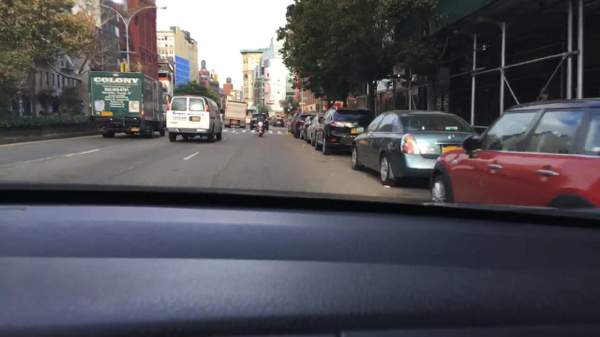car: (424, 100, 599, 209), (349, 110, 482, 186), (314, 104, 374, 155), (166, 93, 223, 142), (305, 110, 327, 147), (294, 111, 312, 137), (299, 116, 313, 139), (251, 113, 269, 130), (287, 112, 302, 132), (272, 117, 285, 128), (266, 115, 275, 126)
motor: (255, 121, 266, 137)
person: (537, 88, 553, 100)
rider: (256, 110, 266, 133)
traffic light: (214, 73, 219, 83), (253, 83, 257, 90), (210, 74, 213, 81)
traffic sign: (298, 102, 305, 105), (303, 97, 308, 101)
truck: (87, 72, 168, 139), (223, 98, 249, 129)
